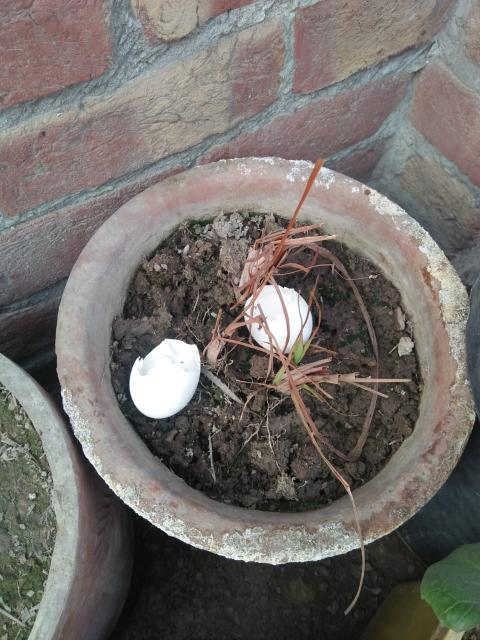Roto: (129, 337, 202, 418), (242, 284, 314, 354)
